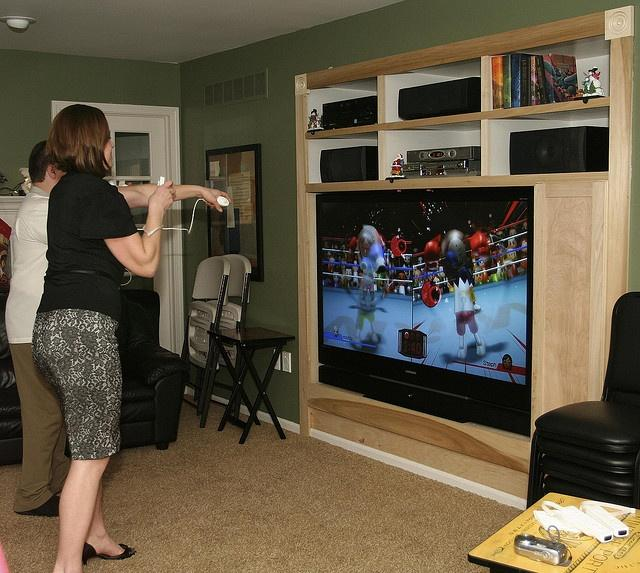AIO PC-Monitor-TV: (313, 184, 535, 438)
Rak: (291, 3, 633, 192)
